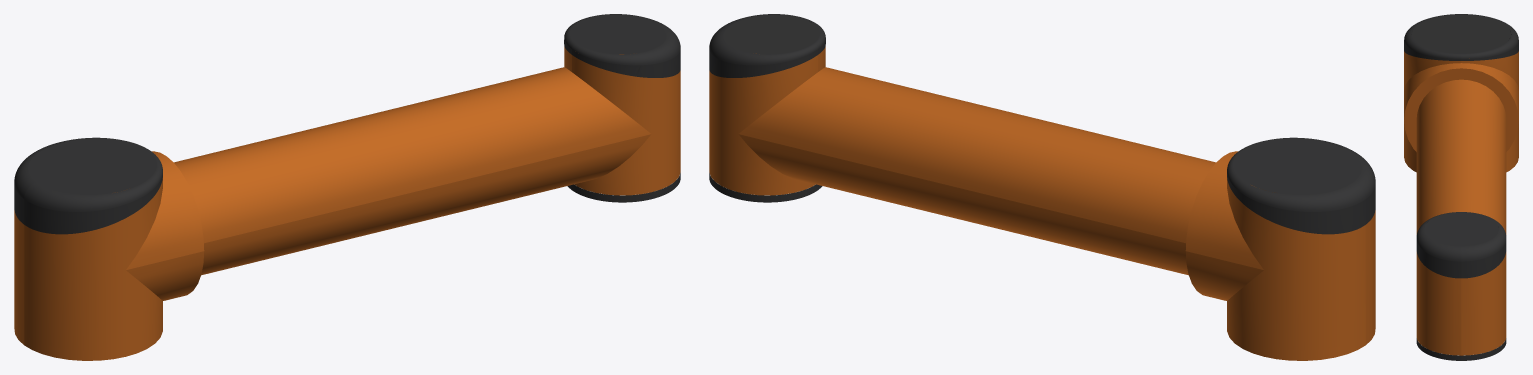
3 views of the same model, side by side, from view 1: azimuth 30°, elevation 25°; view 2: azimuth 150°, elevation 25°; view 3: azimuth 270°, elevation 25° (orthographic). The views are drawn at different scales.
Parts seen in each view (by area): view 1: mesh; view 2: mesh; view 3: mesh.
Boxes of the visible parts, x1,y1,x2,y2 form: mesh: [14, 14, 680, 360]; mesh: [709, 14, 1375, 360]; mesh: [1404, 14, 1518, 360].
Bounding box in the file's own units: 745 × 148 × 183.
